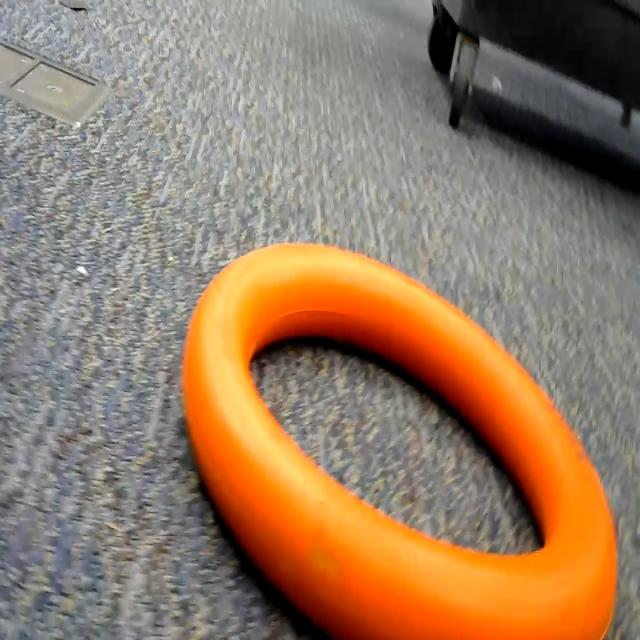note: (179, 234, 639, 640)
